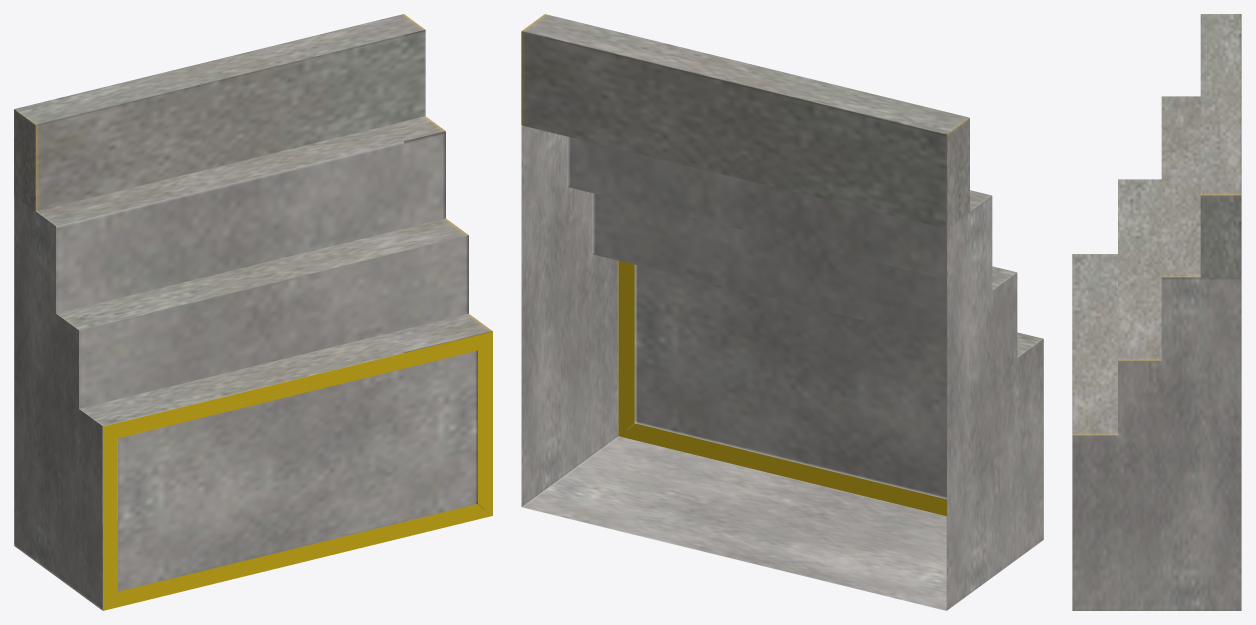
Rendered from qt-tj-023-geode.glb.
The picture shows the model from 3 angles, left to right: view 1: azimuth 30°, elevation 25°; view 2: azimuth 150°, elevation 25°; view 3: azimuth 270°, elevation 25°; orthographic projection. The views are drawn at different scales.
Visible parts, largest first — view 1: Node; view 2: Node; view 3: Node.
Part boxes in pixels (left/top/right/bottom): Node: left=14, top=14, right=492, bottom=610; Node: left=521, top=14, right=1043, bottom=610; Node: left=1072, top=14, right=1241, bottom=610.
Size of the model in its own units: 1.47 by 1.57 by 0.5803.
Materials: 1 (1 with a texture image).
